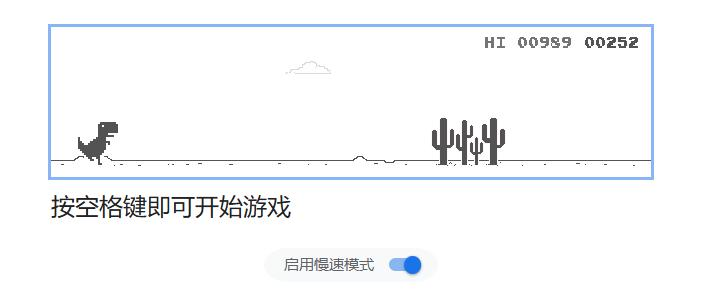cactus: (430, 116, 505, 166)
dino: (74, 120, 119, 165)
